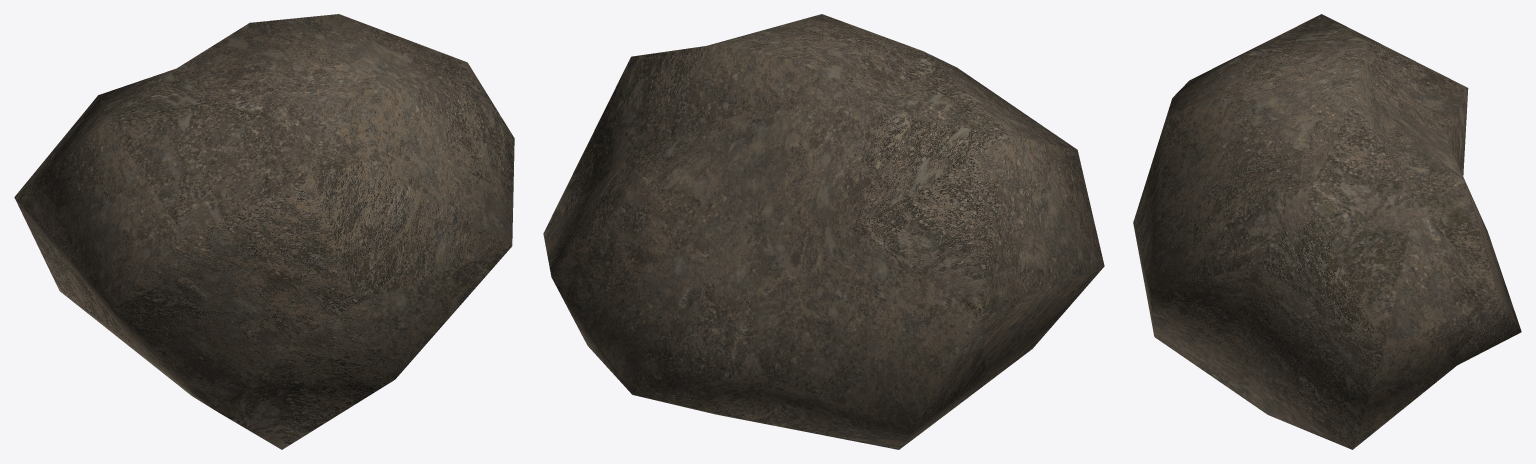
Rendered from rock2.fbx.
The picture shows the model from 3 angles, left to right: view 1: azimuth 30°, elevation 25°; view 2: azimuth 150°, elevation 25°; view 3: azimuth 270°, elevation 25°; orthographic projection. The views are drawn at different scales.
Parts seen in each view (by area): view 1: Icosphere; view 2: Icosphere; view 3: Icosphere.
Part boxes in pixels (x1=…): Icosphere: x1=14, y1=14, x2=514, y2=449; Icosphere: x1=543, y1=14, x2=1104, y2=449; Icosphere: x1=1133, y1=14, x2=1521, y2=449.
Size of the model in its own units: 226 by 181 by 185.
